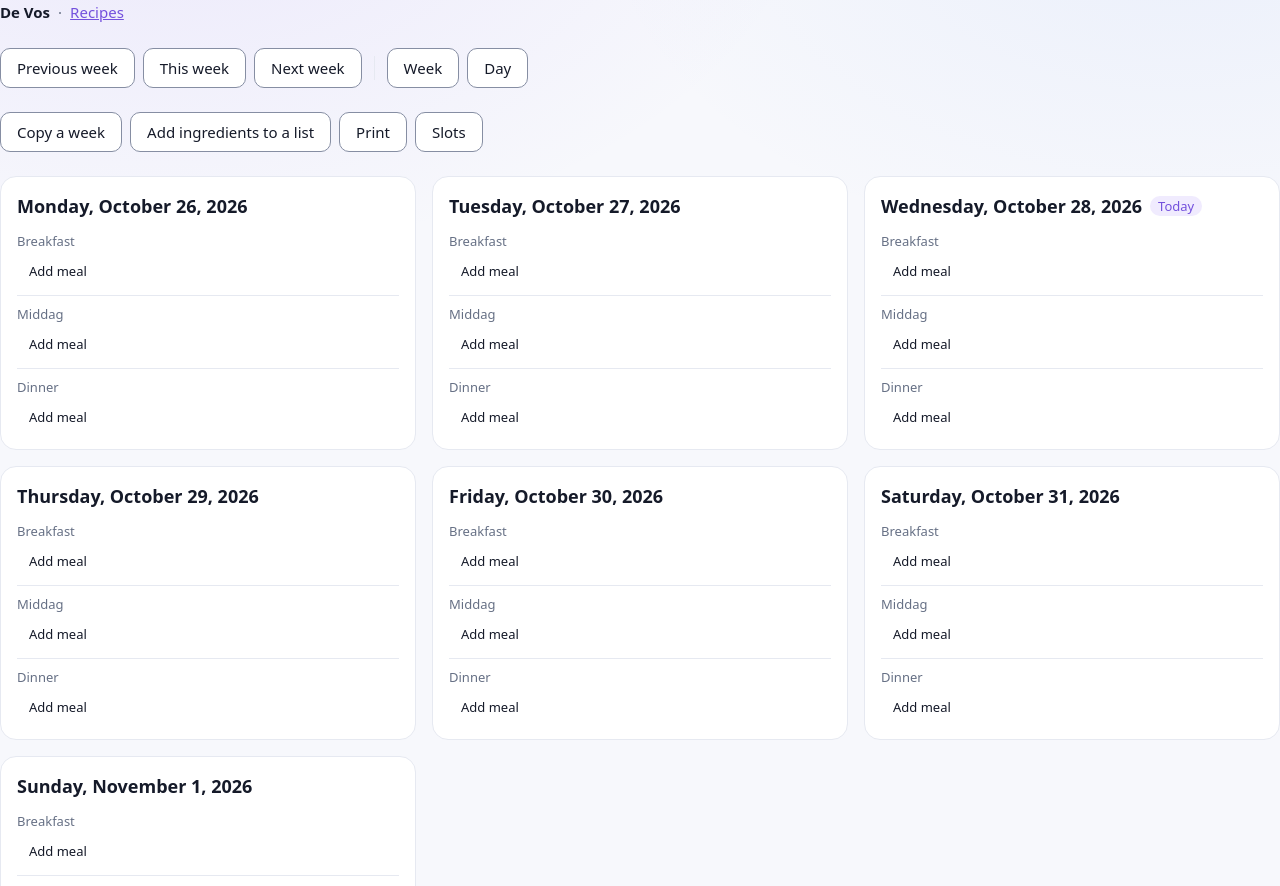
MealPlanner › refuses an empty custom title before sending
The image size is (1280, 886).
Click the button with test id "meal-add". click: click(922, 271)
box: [881,255,963,287]
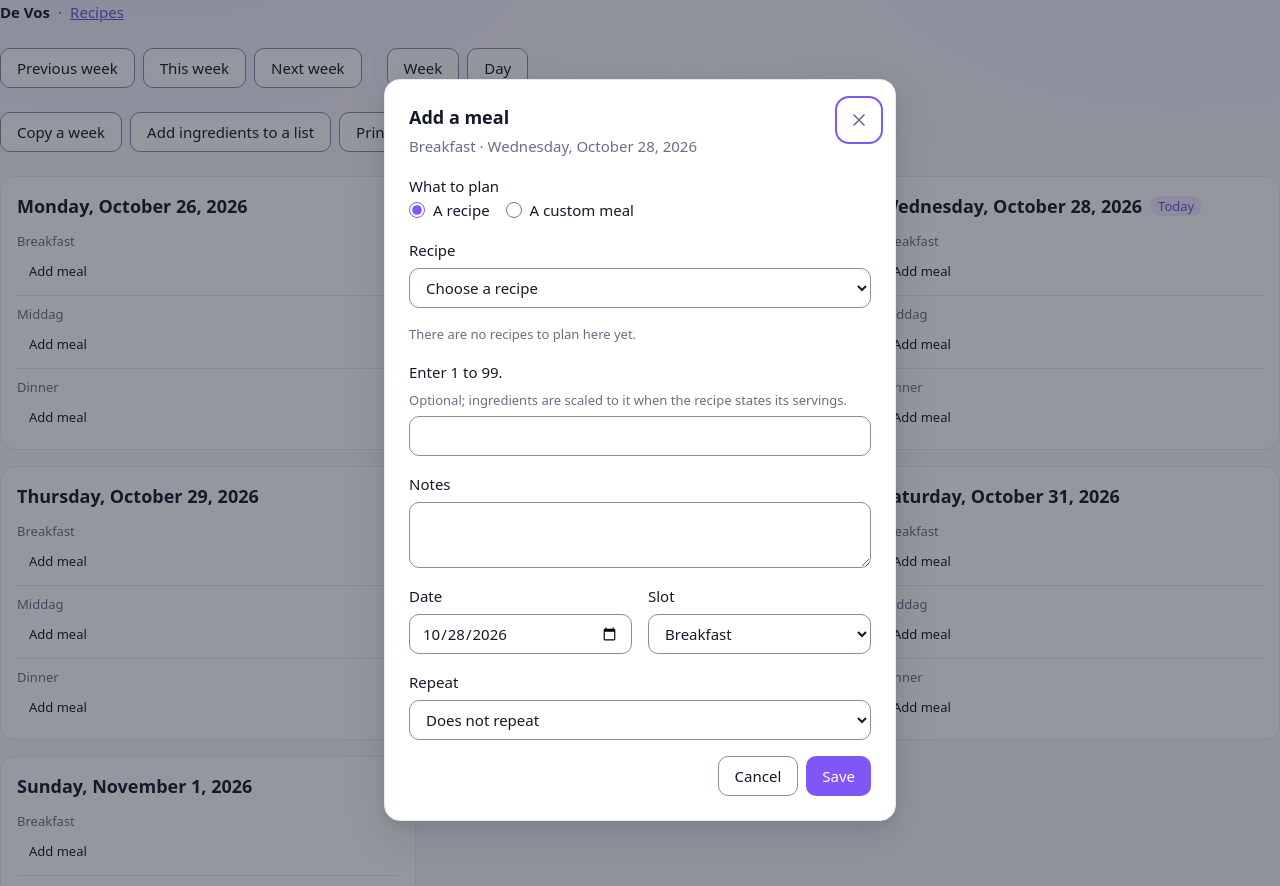
Click the radio button with test id "meal-kind-custom". click: click(514, 210)
box: [506,202,522,218]
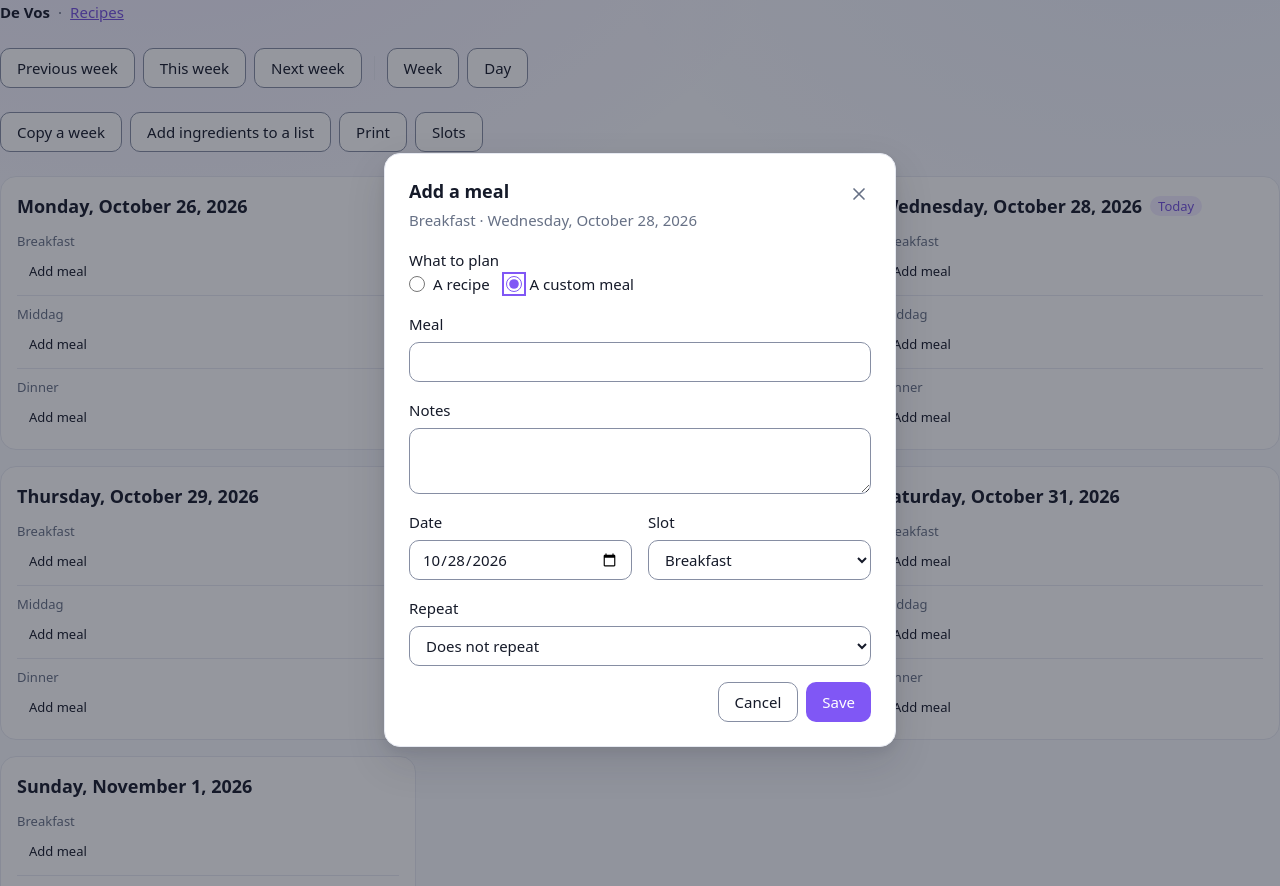
Click the button with test id "meal-save". click: click(839, 702)
box: [806,682,871,722]
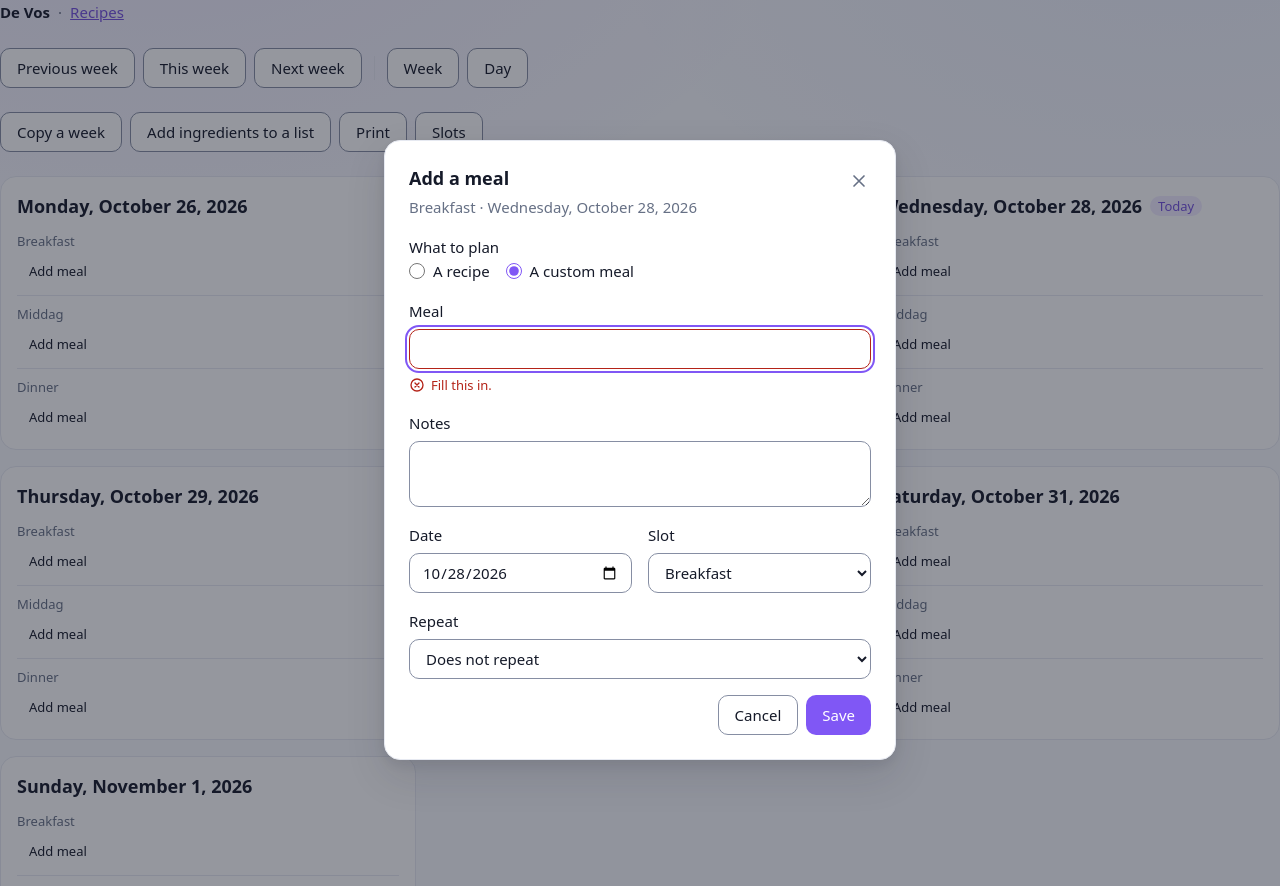
Now the text "Fill this in." is shown, box [431,375,492,395]
